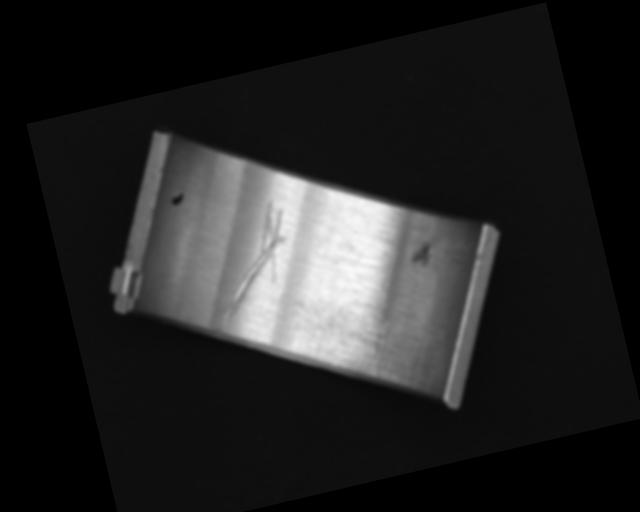blot: (168, 190, 186, 207)
bruise: (408, 241, 436, 268)
nick: (190, 195, 309, 333)
scratch: (301, 296, 414, 403)
